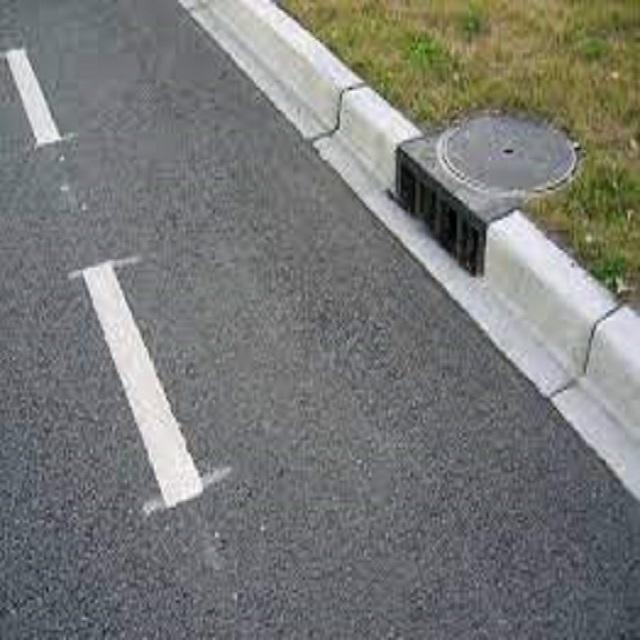curb: (377, 112, 635, 277), (486, 252, 637, 490), (185, 2, 392, 174)
